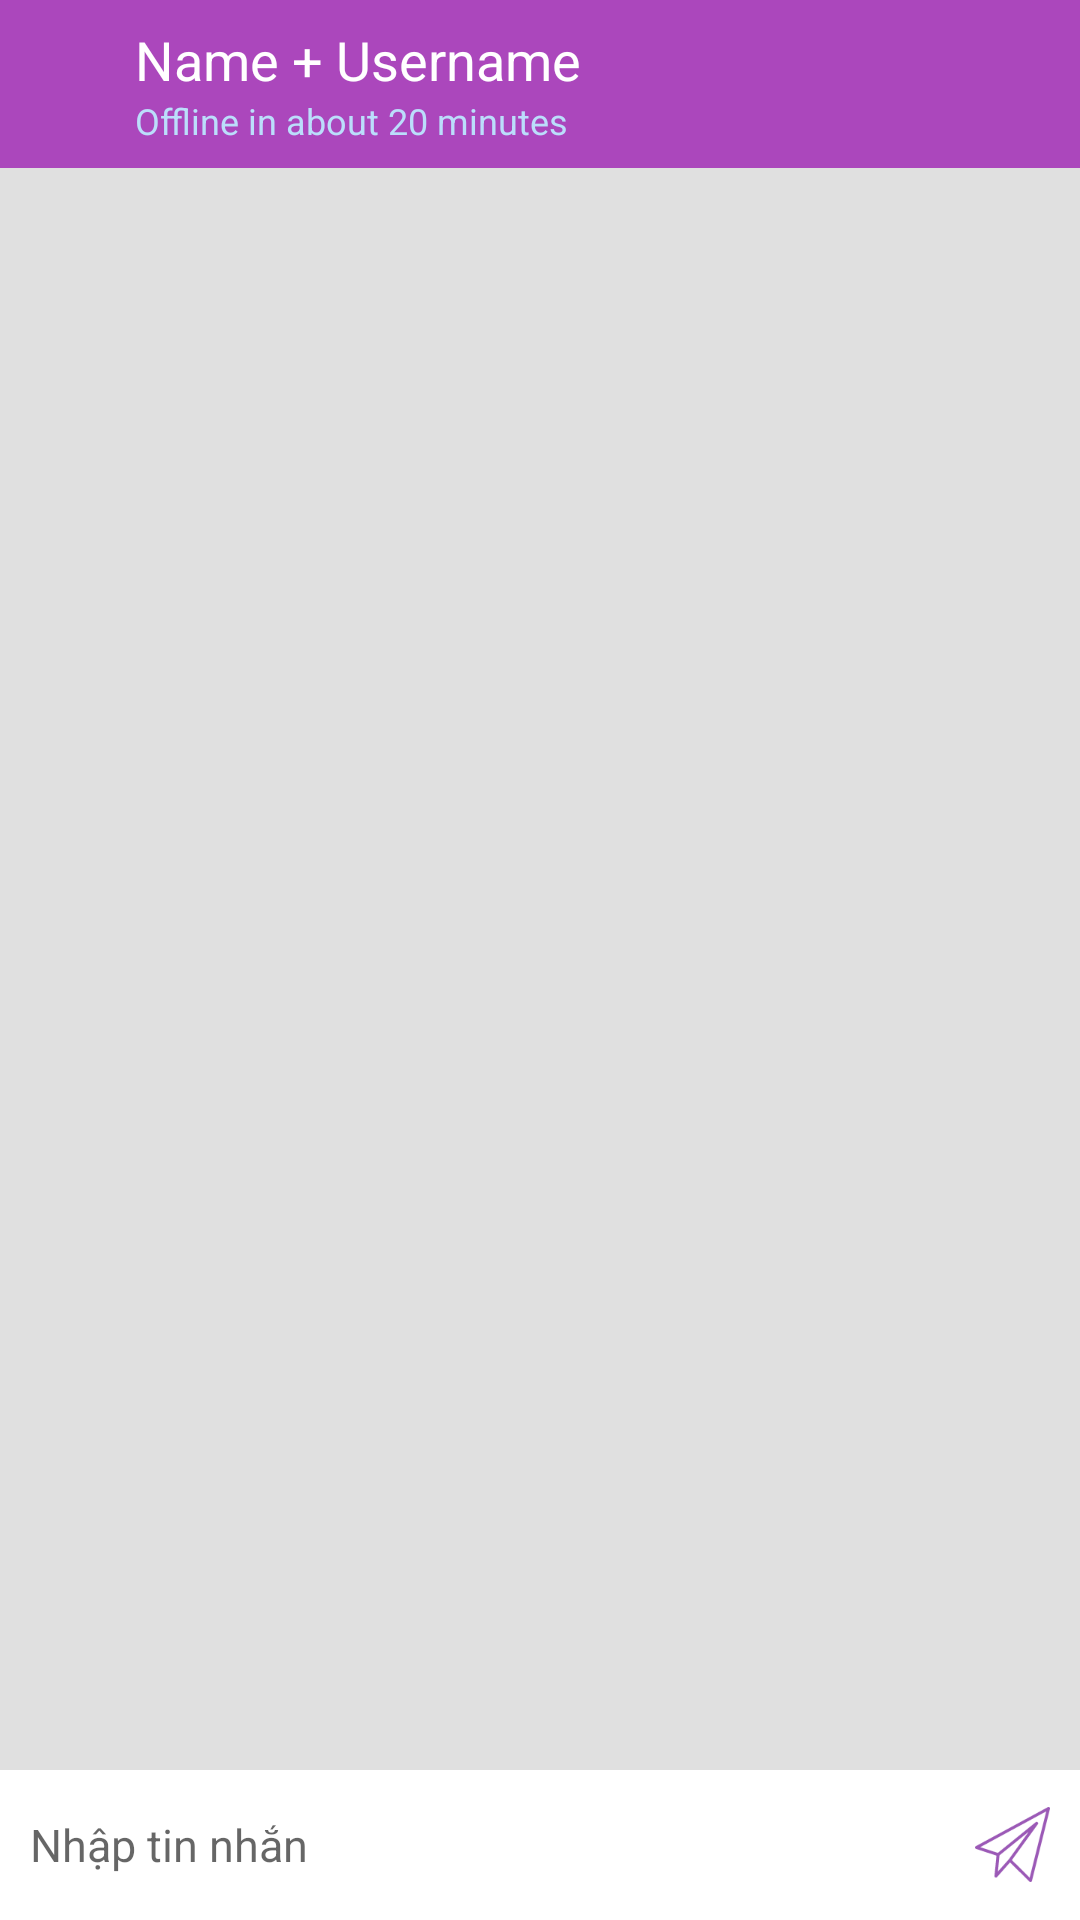

Where icons sit on this 1080 x 1920 app screen, as (x1, y1, x2, y2):
send: (975, 1807, 1050, 1882)
